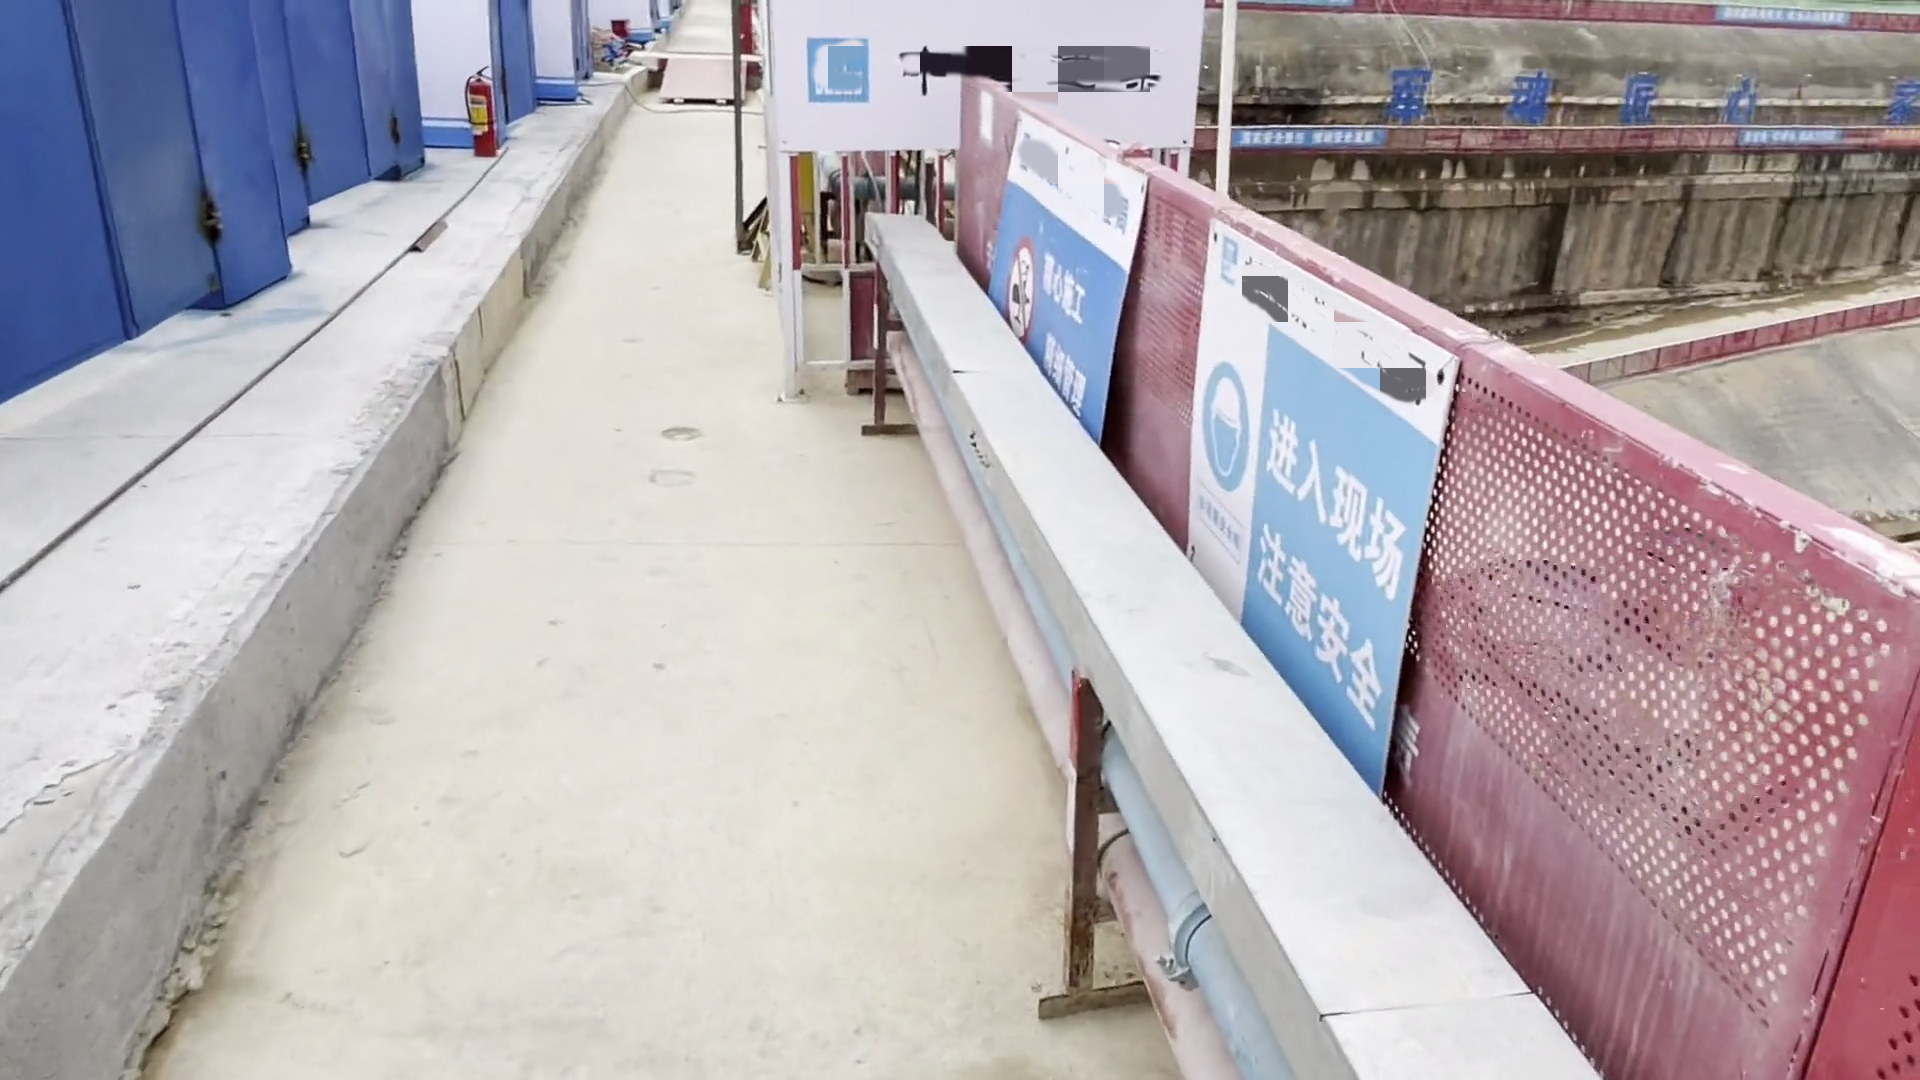fence: (1367, 322, 1908, 1075)
slogan: (1171, 207, 1470, 843), (992, 111, 1149, 444), (1232, 117, 1393, 153)
